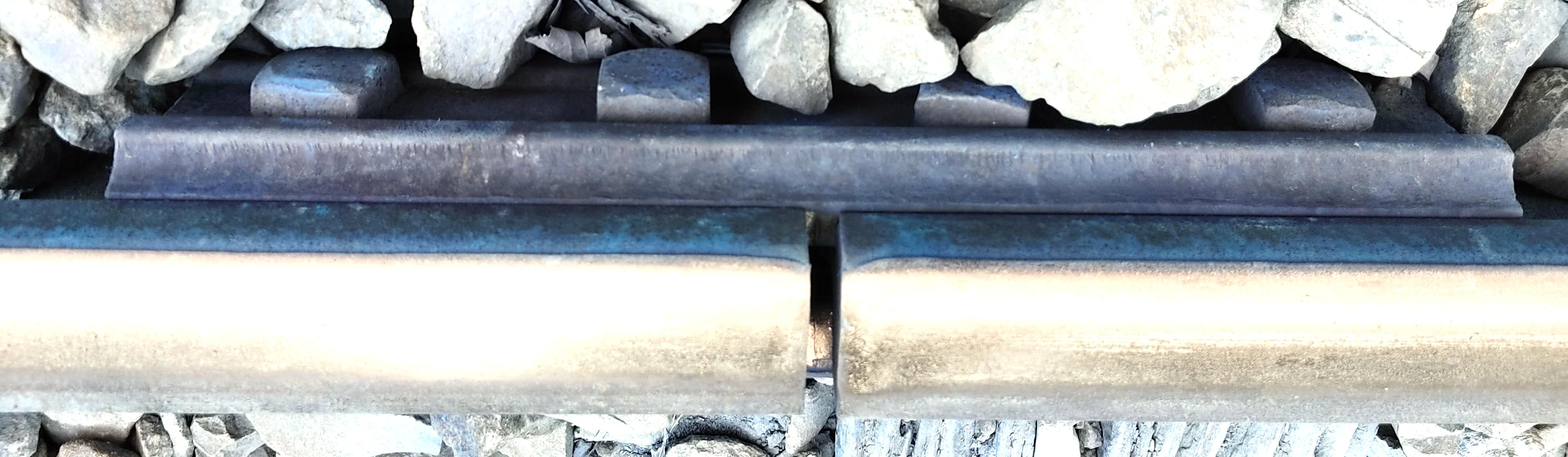duan lie: (783, 210, 859, 431)
